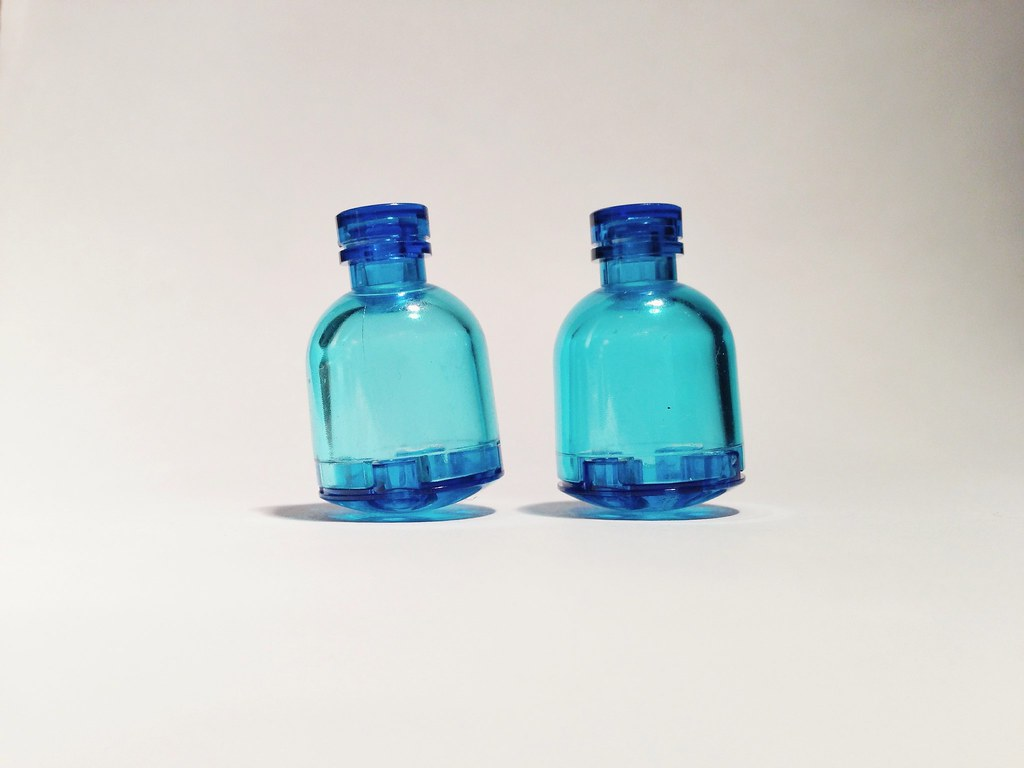bottle: (542, 136, 795, 581), (260, 157, 509, 587)
